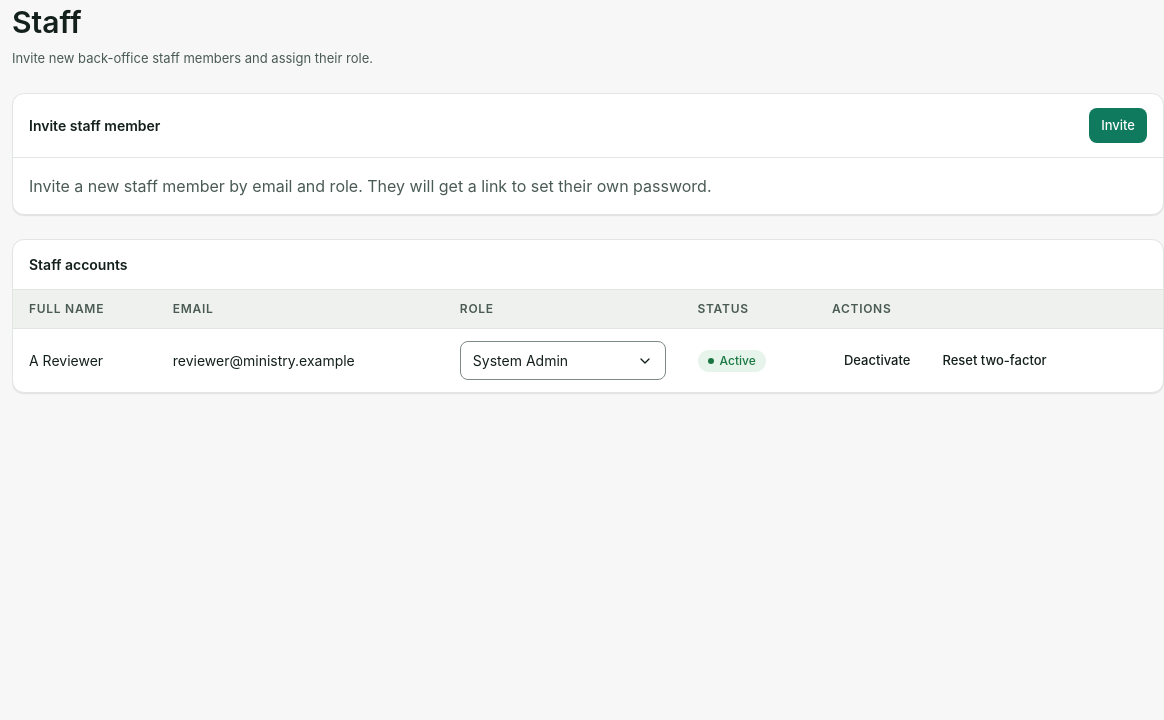
StaffPage accounts › says why when the platform refuses to remove its last administrator
Click the button "Deactivate": (877, 361) [832,343,922,378]
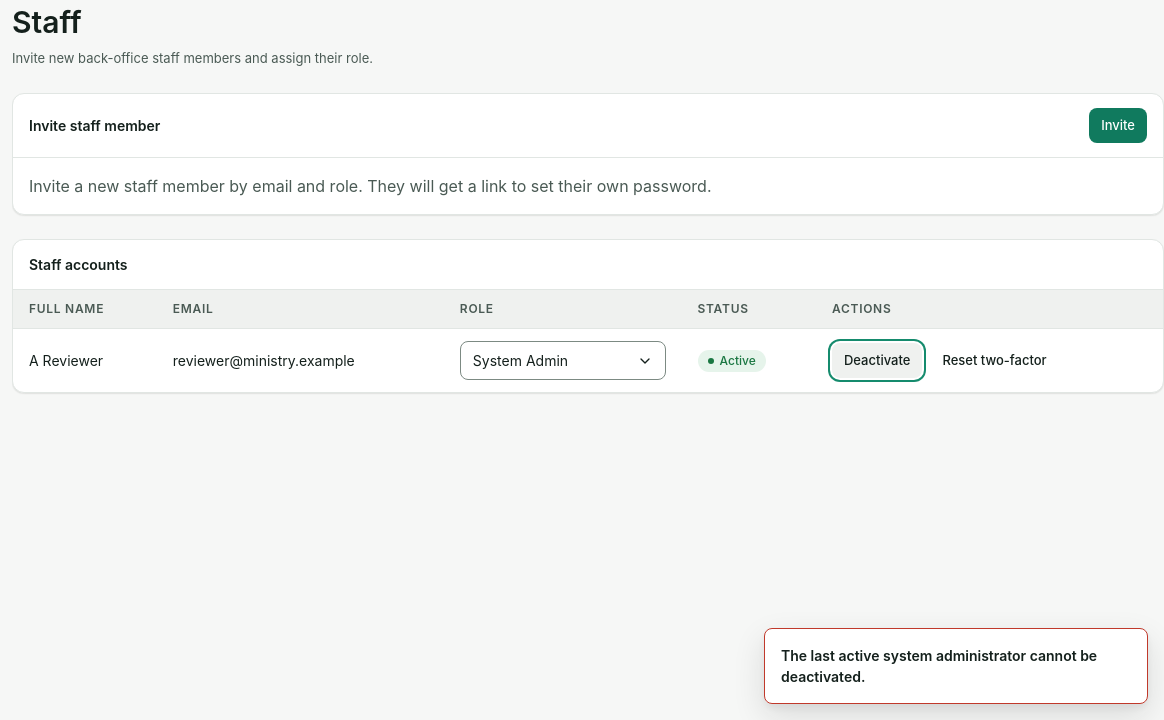
Expected: the text "The last active system administrator cannot be deactivated." is shown, [781,645,1131,687]
